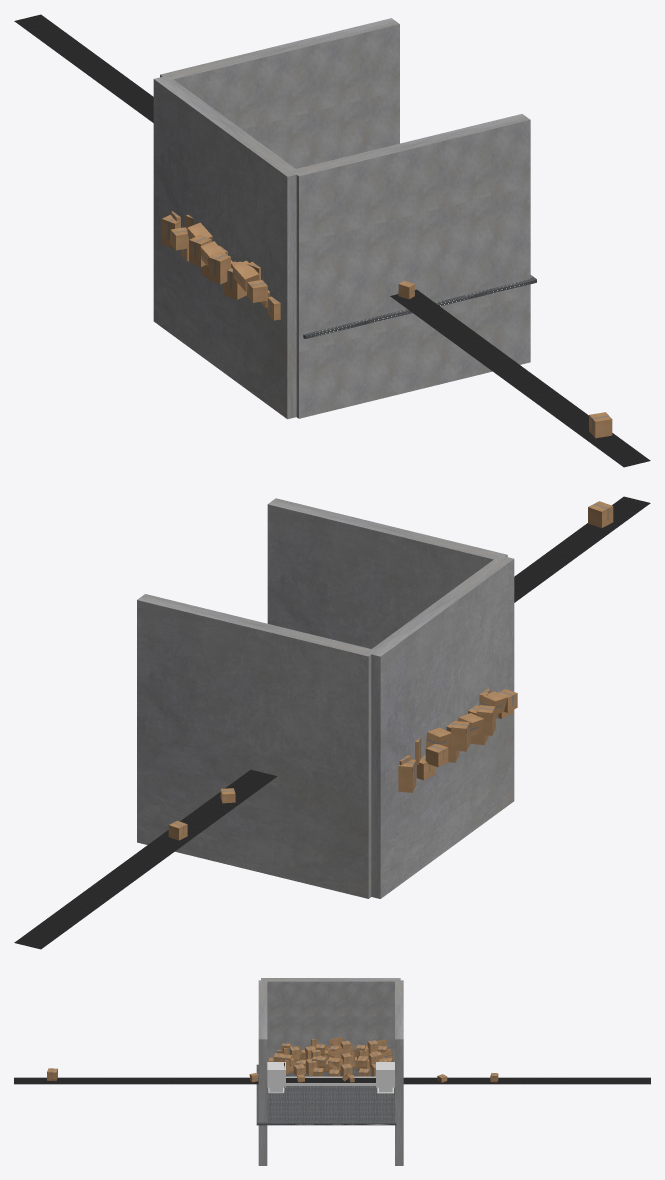
The model's file is conveyer build.fbx.
3 renders of one model, top to bottom at view 1: azimuth 30°, elevation 25°; view 2: azimuth 150°, elevation 25°; view 3: azimuth 270°, elevation 25°, orthographic. The views are drawn at different scales.
Parts seen in each view (by area): view 1: Cube.004, Cube.012, Cube.003, Cube.011, box pile, Cube.006; view 2: Cube.003, Cube.012, Cube.004, Cube.011, box pile; view 3: Cube.012, Cube.006, Cube.011, box pile, Cube.004, Cube.003, Cube, Cube.001, Cube.002.
Part boxes in pixels (x1,y1,x2,y2): Cube.004: (291,114,530,418); Cube.012: (153,76,296,419); Cube.003: (160,18,399,168); Cube.011: (14,14,650,467); box pile: (161,211,280,320); Cube.006: (303,275,536,338); Cube.003: (137,594,376,898); Cube.012: (366,555,514,898); Cube.004: (267,498,507,648); Cube.011: (14,496,650,949); box pile: (398,688,517,792); Cube.012: (261,978,400,1061); Cube.006: (256,1064,396,1125); Cube.011: (14,1073,650,1084); box pile: (268,1037,393,1076); Cube.004: (258,980,267,1165); Cube.003: (395,980,403,1165); Cube: (376,1062,394,1093); Cube.001: (267,1062,285,1093); Cube.002: (286,1076,375,1085).
Size of the model in its own units: 3747 by 3172 by 14461.
